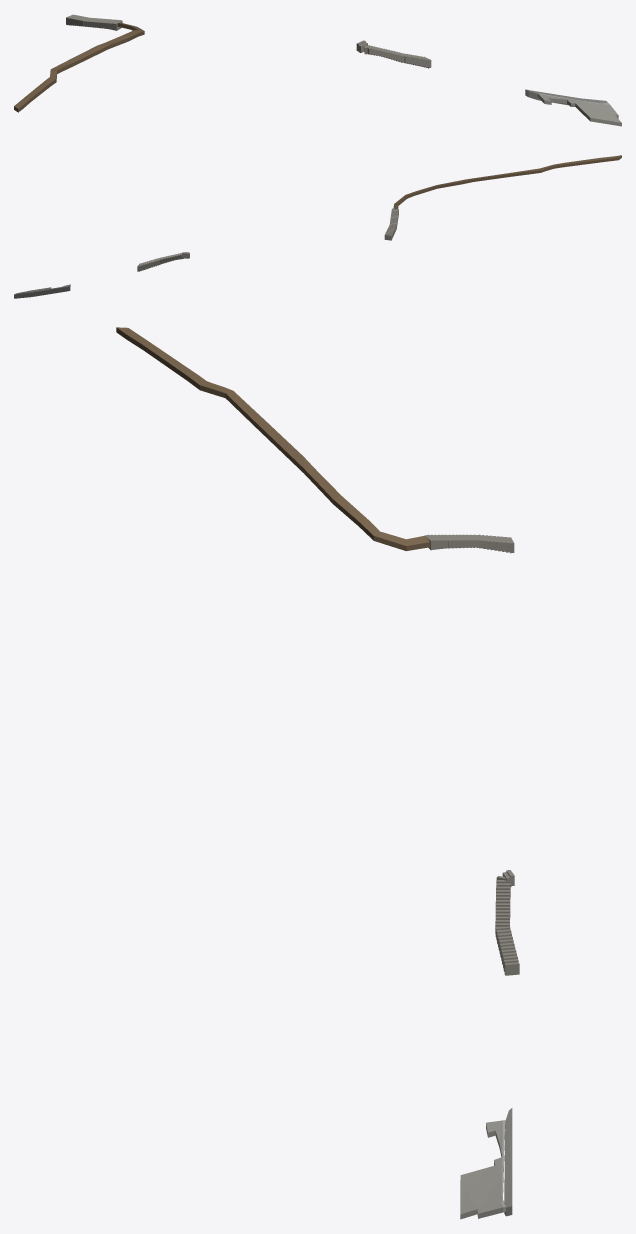
3 views of the same model, one above another, from view 1: azimuth 30°, elevation 25°; view 2: azimuth 150°, elevation 25°; view 3: azimuth 270°, elevation 25° (orthographic). The views are drawn at different scales.
Size of the model in its own units: 147 by 54.76 by 50.31.
